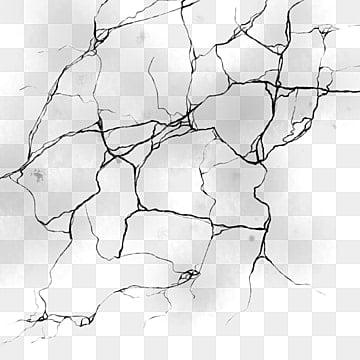Crack: (23, 69, 335, 293)
